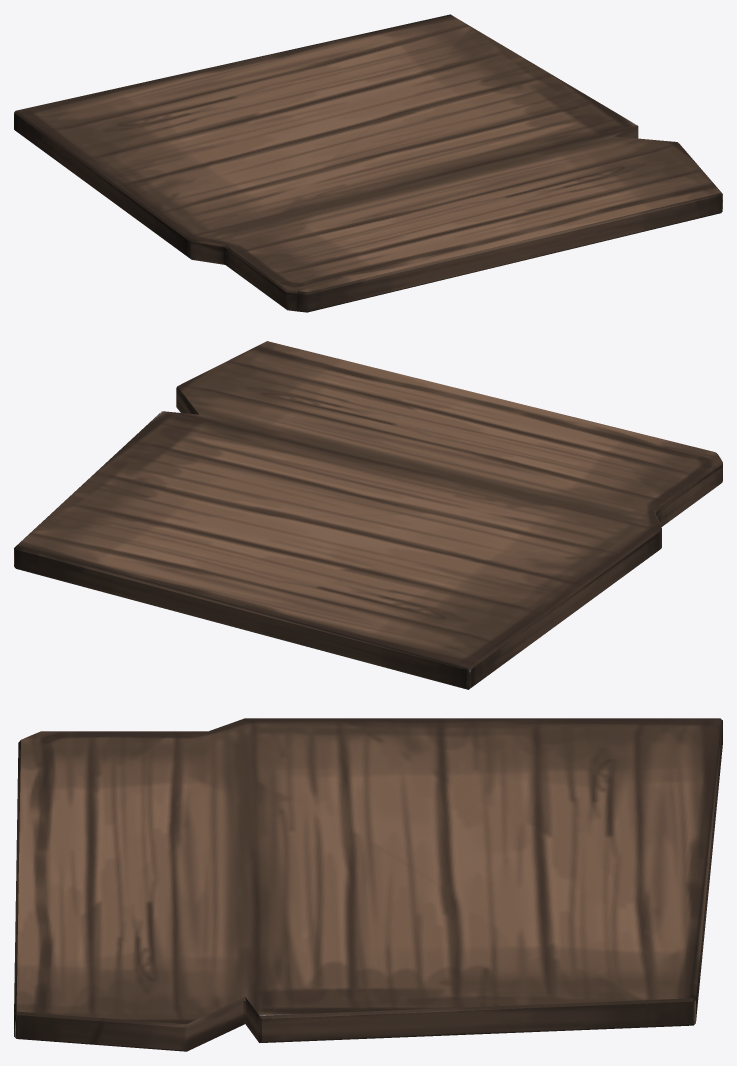
Rendered from Z1_Wood_Platform_1.FBX.
3 renders of one model, top to bottom at view 1: azimuth 30°, elevation 25°; view 2: azimuth 150°, elevation 25°; view 3: azimuth 270°, elevation 25°, orthographic. The views are drawn at different scales.
Parts seen in each view (by area): view 1: Z1_Wood_Platform_1; view 2: Z1_Wood_Platform_1; view 3: Z1_Wood_Platform_1.
Part boxes in pixels (x1,y1,x2,y2): Z1_Wood_Platform_1: (14, 14, 722, 312); Z1_Wood_Platform_1: (14, 341, 722, 689); Z1_Wood_Platform_1: (14, 718, 722, 1051).
Size of the model in its own units: 282 by 11.71 by 274.
